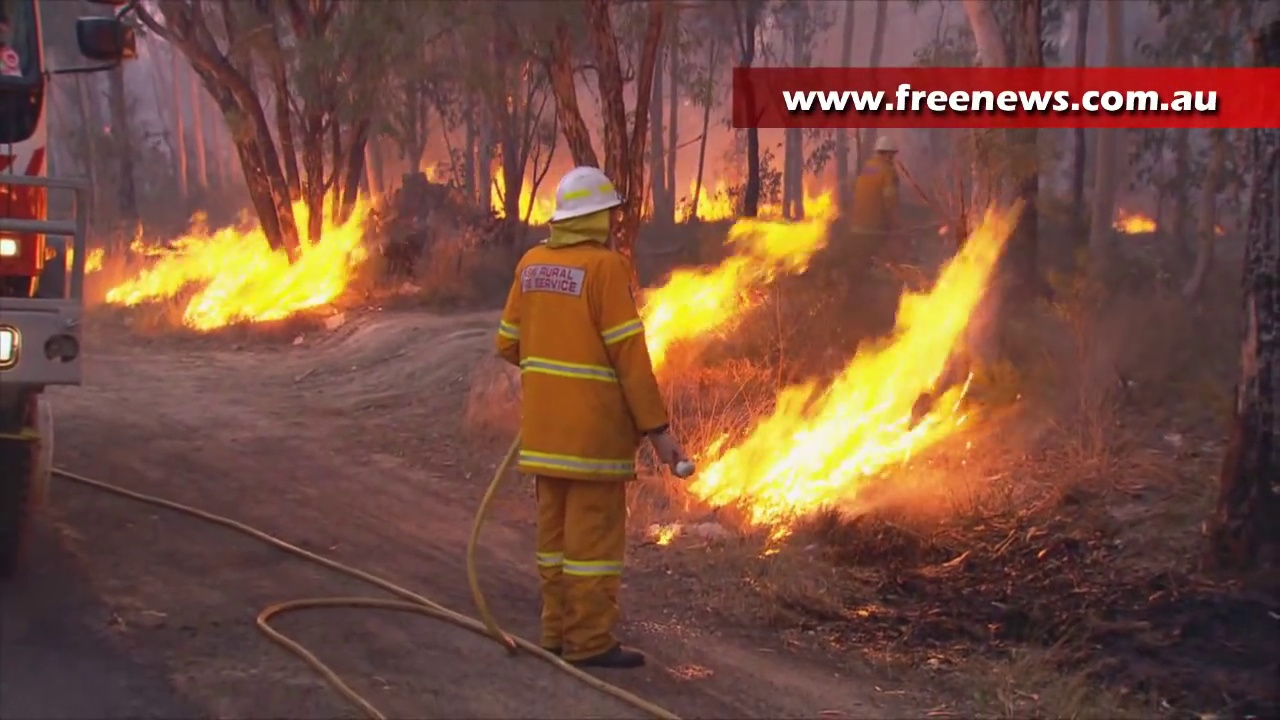fire: (657, 200, 1017, 514), (116, 195, 366, 327), (634, 260, 741, 360), (512, 170, 552, 224), (1118, 209, 1156, 233)
